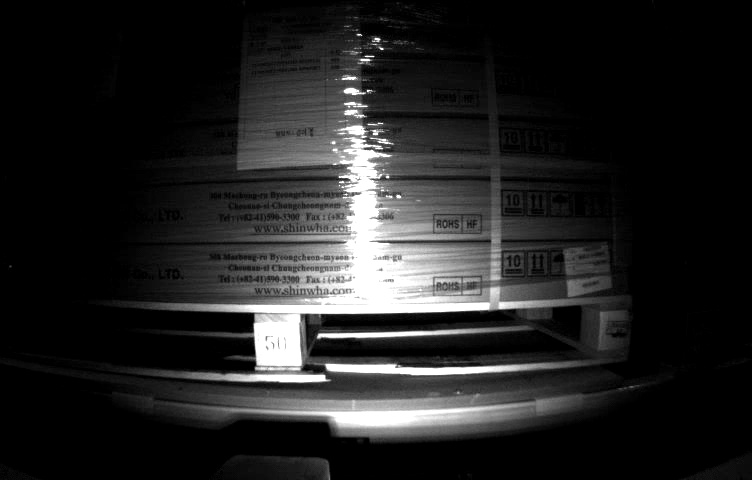True Barcode: (563, 243, 615, 296)
